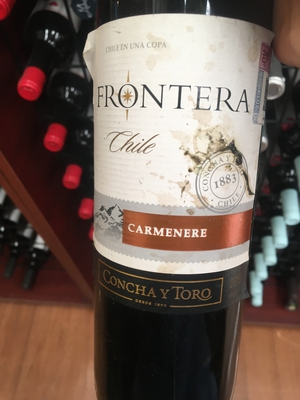frontera carmenere: (83, 8, 273, 400)
